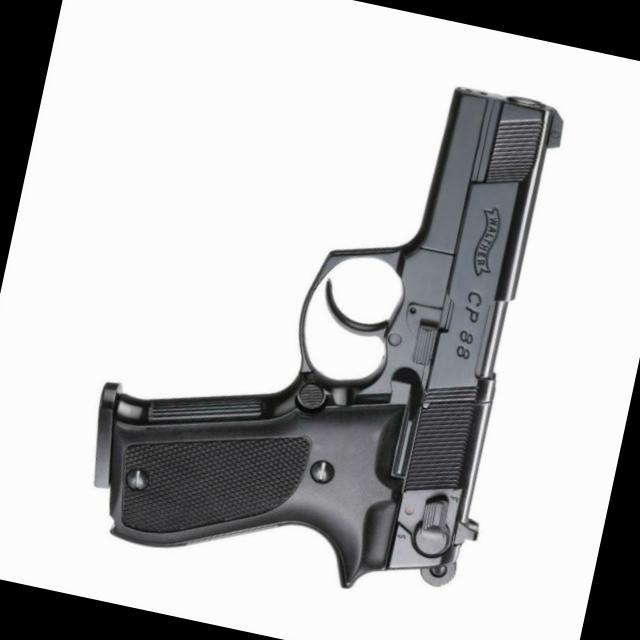handgun: (70, 20, 576, 619)
